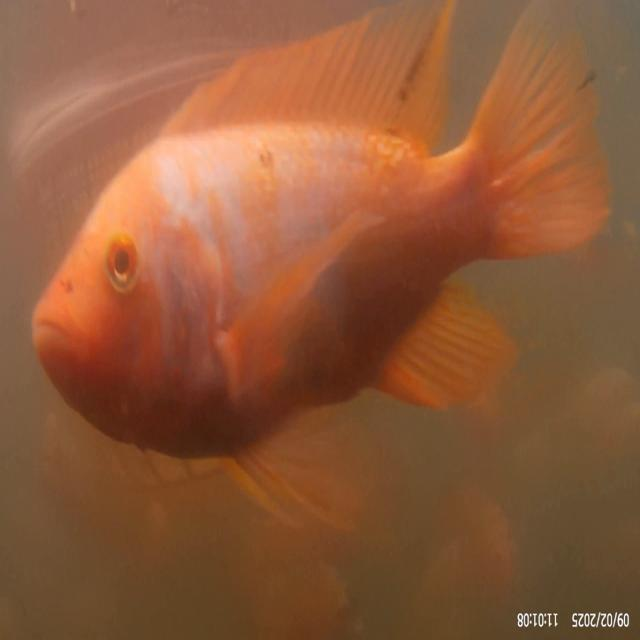ikan: (30, 2, 612, 463)
